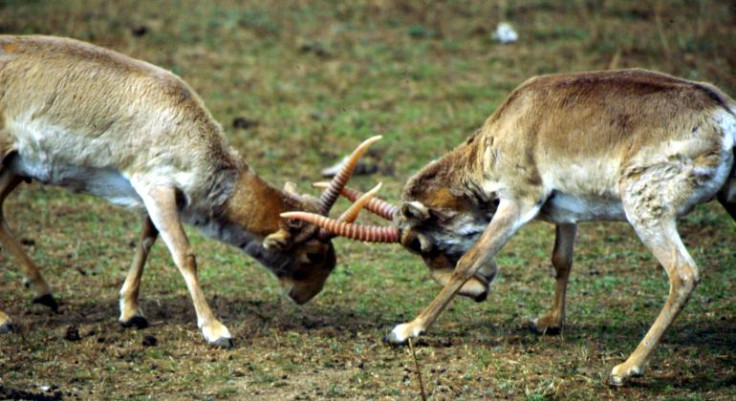saiga: (331, 69, 736, 381), (1, 34, 384, 345)
